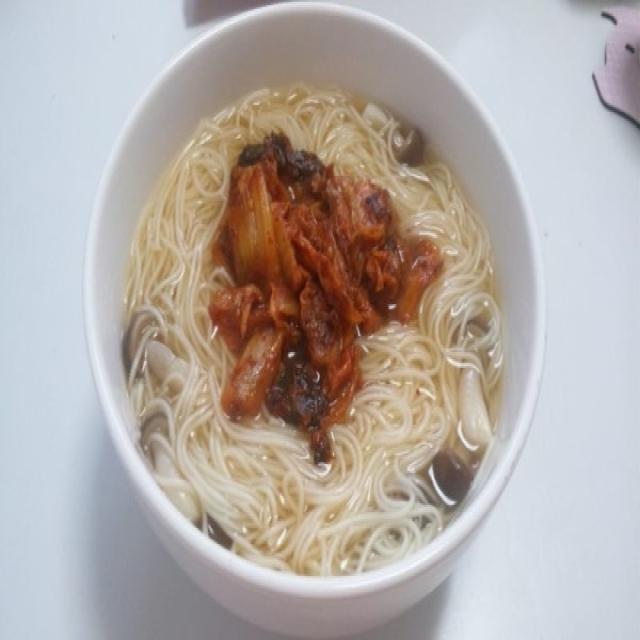面条主食: (71, 5, 552, 615)
